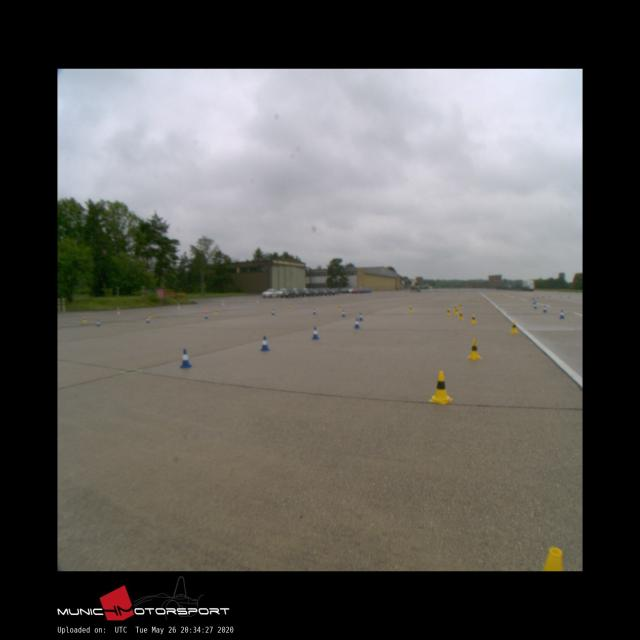blue_cone: (180, 349, 192, 367), (259, 335, 269, 350), (311, 326, 319, 339), (354, 318, 360, 328), (559, 310, 565, 318), (359, 312, 363, 320), (543, 306, 547, 312)
yellow_cone: (430, 370, 453, 403), (467, 339, 480, 359), (509, 320, 517, 334), (471, 314, 477, 324), (458, 311, 464, 320), (447, 308, 451, 315)
